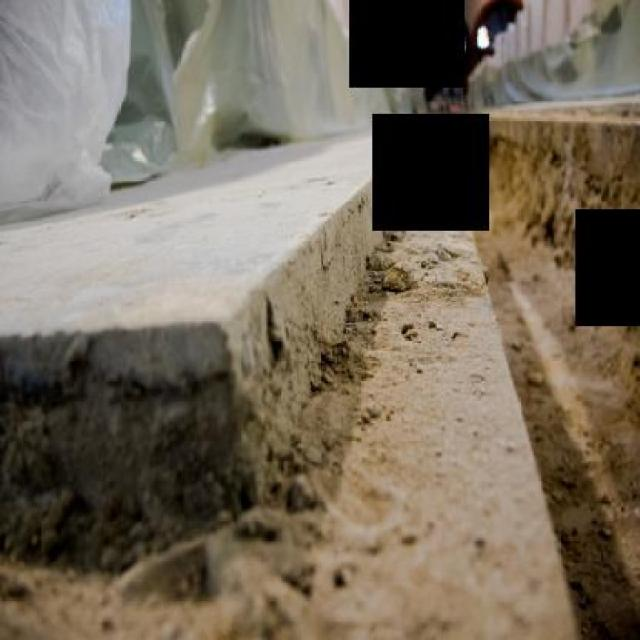plastic bag: (0, 0, 131, 222)
